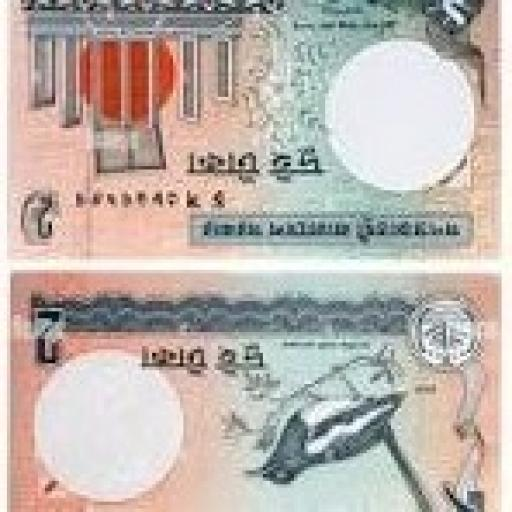2taka: (10, 0, 495, 253), (7, 273, 502, 509)
